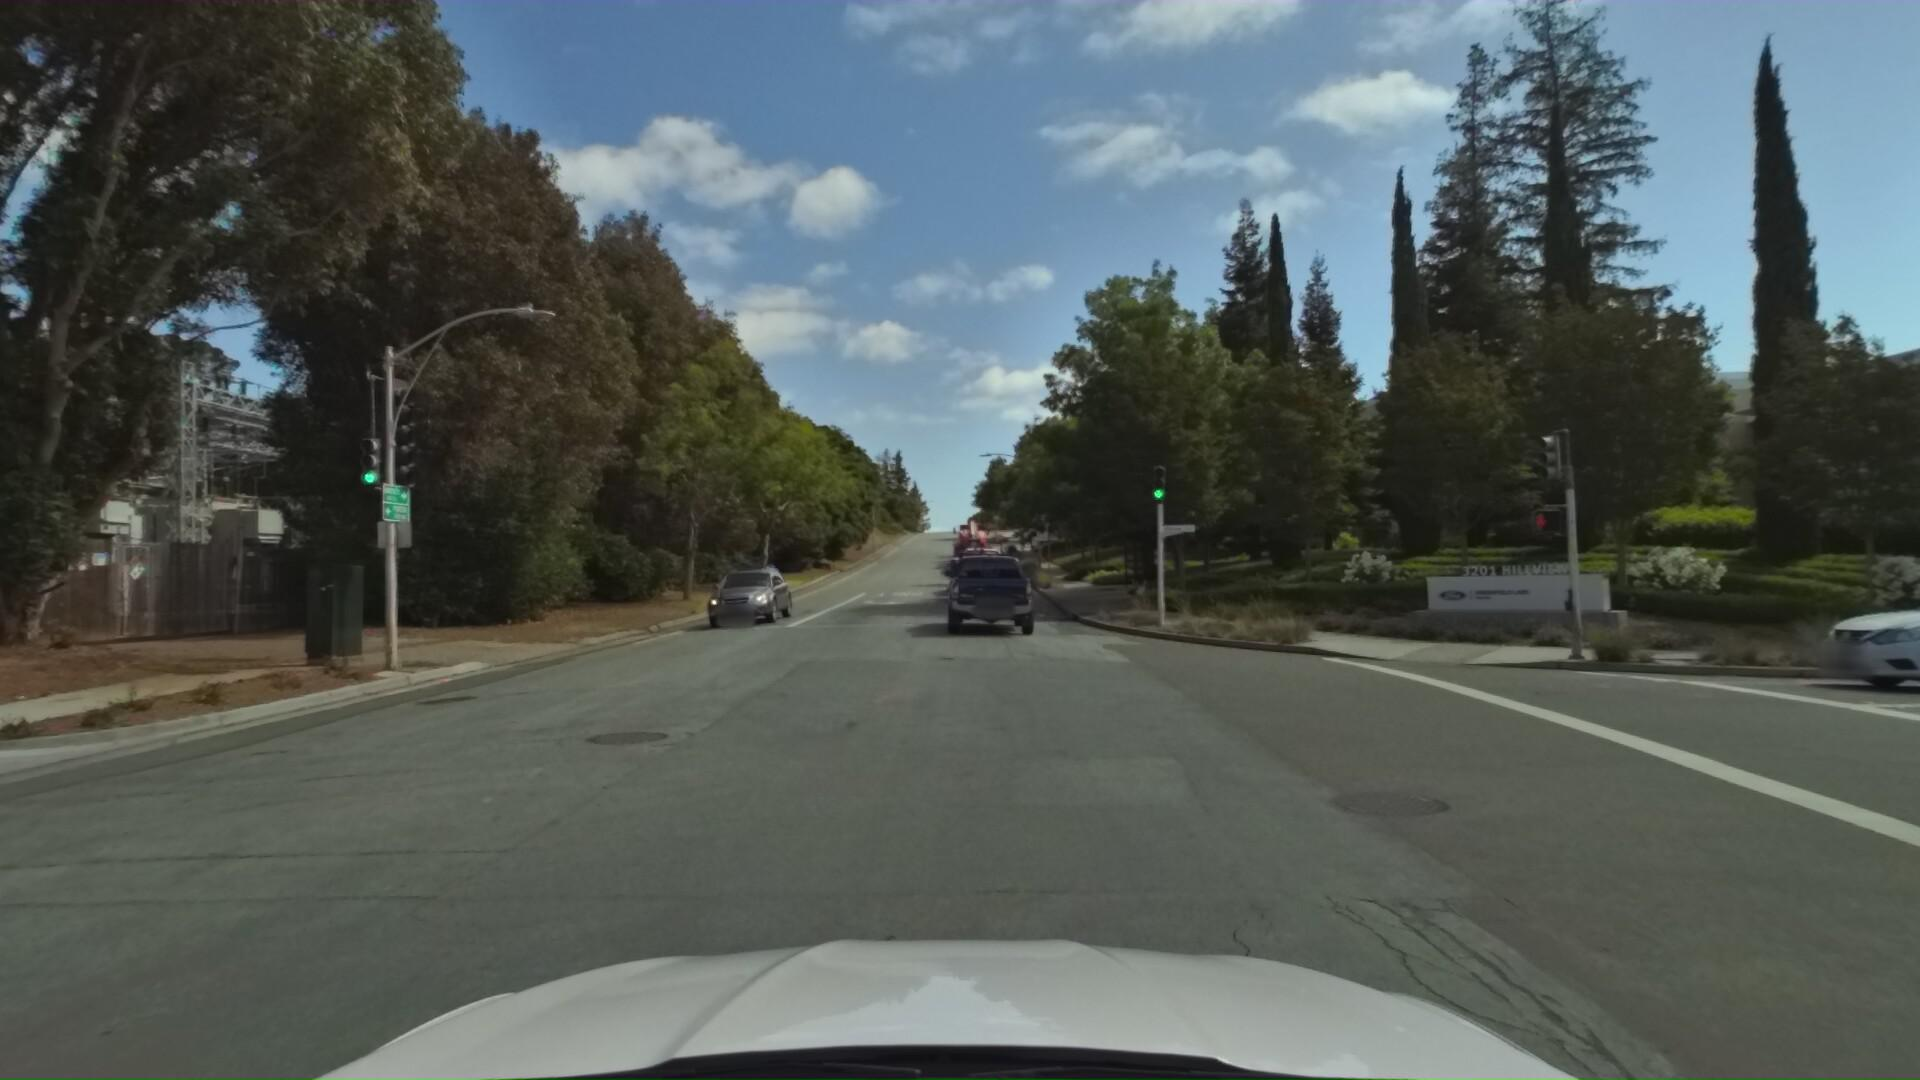car: (1791, 546, 1920, 702), (942, 545, 1039, 642), (690, 554, 795, 626), (938, 527, 1010, 608)
other_vehicle: (956, 516, 992, 553)
truck: (949, 502, 1000, 574)
